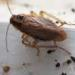cockroach: (9, 13, 67, 42)
